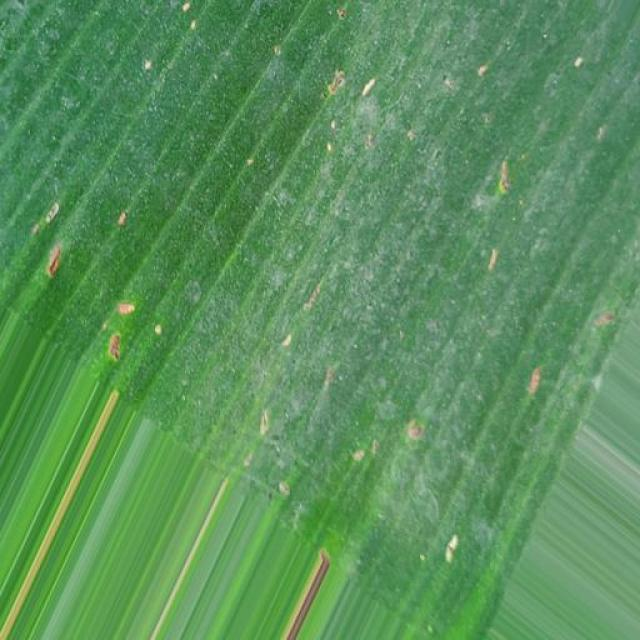Black_rot: (66, 0, 640, 576)
